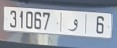0: (25, 10, 33, 29)
1: (18, 9, 25, 30)
3: (9, 10, 17, 28)
6: (94, 15, 106, 35), (34, 11, 42, 31)
7: (42, 11, 52, 31)
waw: (67, 16, 79, 33)
